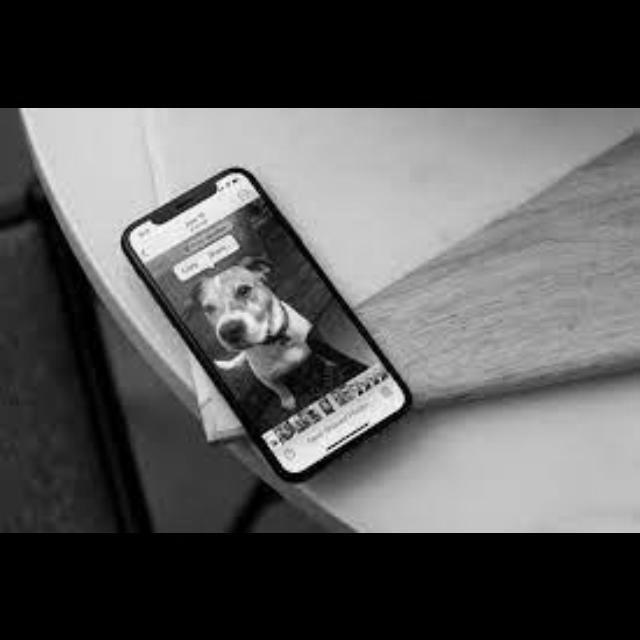fake: (119, 158, 416, 486)
